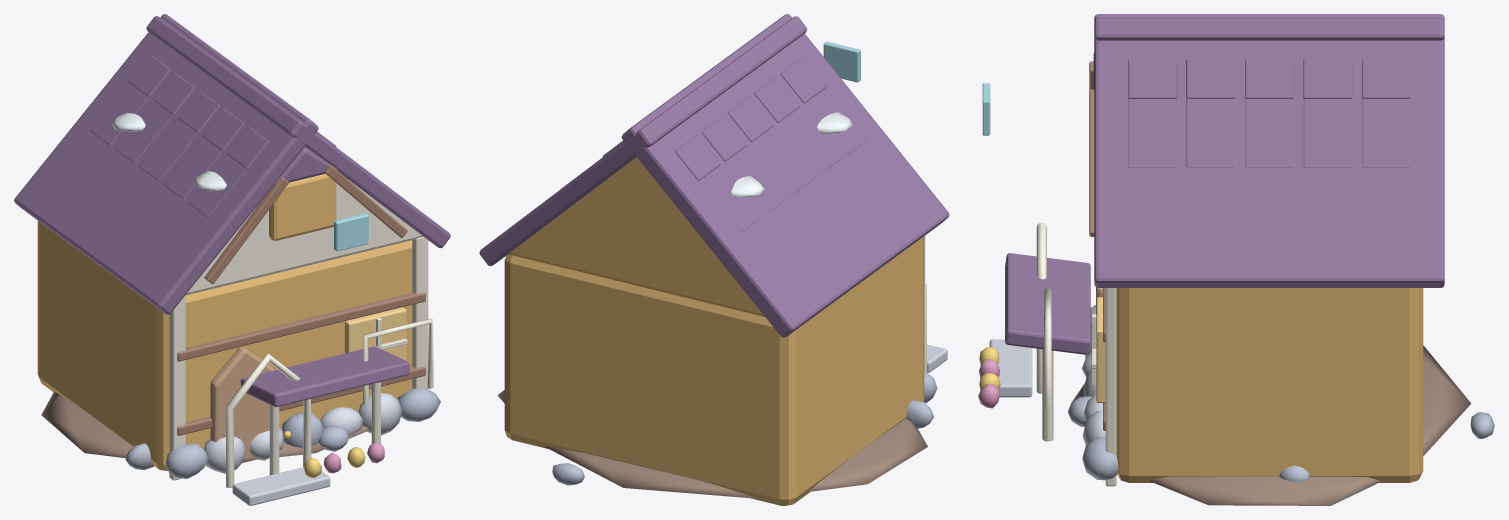
File: northern_house_amber.glb
The picture shows the model from 3 angles, left to right: view 1: azimuth 30°, elevation 25°; view 2: azimuth 150°, elevation 25°; view 3: azimuth 270°, elevation 25°; orthographic projection. The views are drawn at different scales.
Parts seen in each view (by area): view 1: northern_house_amber.001; view 2: northern_house_amber.001; view 3: northern_house_amber.001.
Boxes of the visible parts, left/top/right/bottom form: northern_house_amber.001: left=14, top=14, right=450, bottom=505; northern_house_amber.001: left=479, top=14, right=949, bottom=505; northern_house_amber.001: left=978, top=14, right=1494, bottom=505.
Size of the model in its own units: 11.32 by 10.38 by 12.17.
